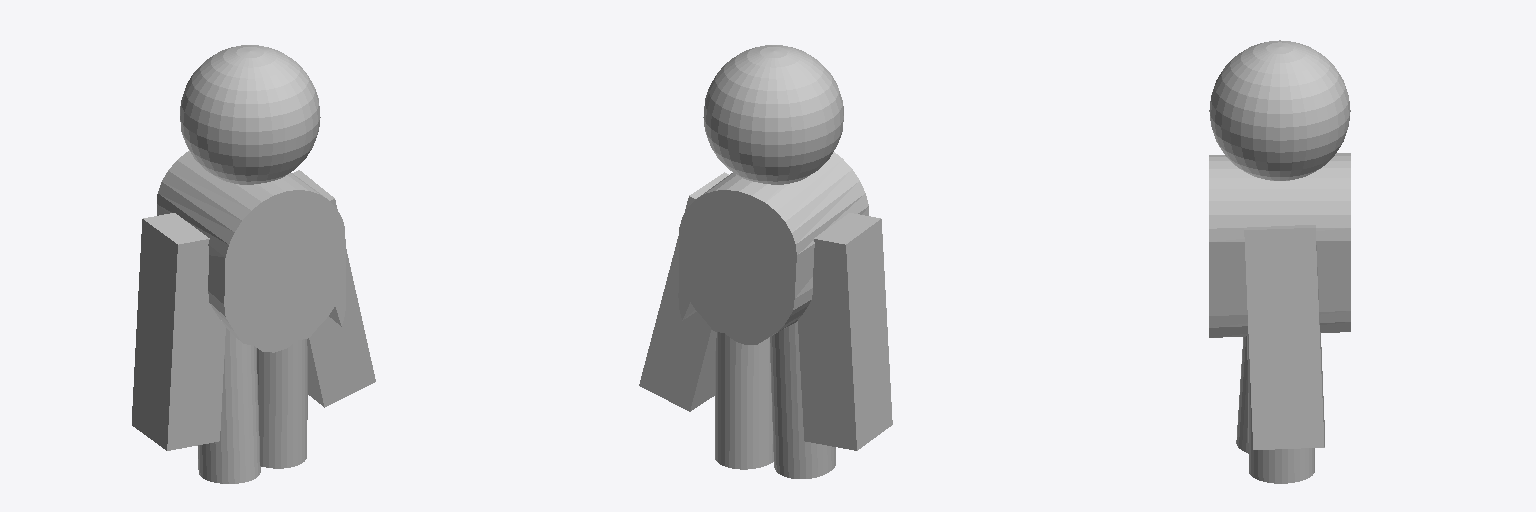
The model's file is Figurine84.obj.
The picture shows the model from 3 angles: view 1: azimuth 30°, elevation 25°; view 2: azimuth 150°, elevation 25°; view 3: azimuth 270°, elevation 25°; orthographic projection.
Parts seen in each view (by area): view 1: Cylinder; view 2: Cylinder; view 3: Cylinder.
Part boxes in pixels (x1,y1,x2,y2): Cylinder: (132, 45, 375, 483); Cylinder: (639, 45, 892, 478); Cylinder: (1209, 40, 1350, 483).
Size of the model in its own units: 3.49 by 6.44 by 2.